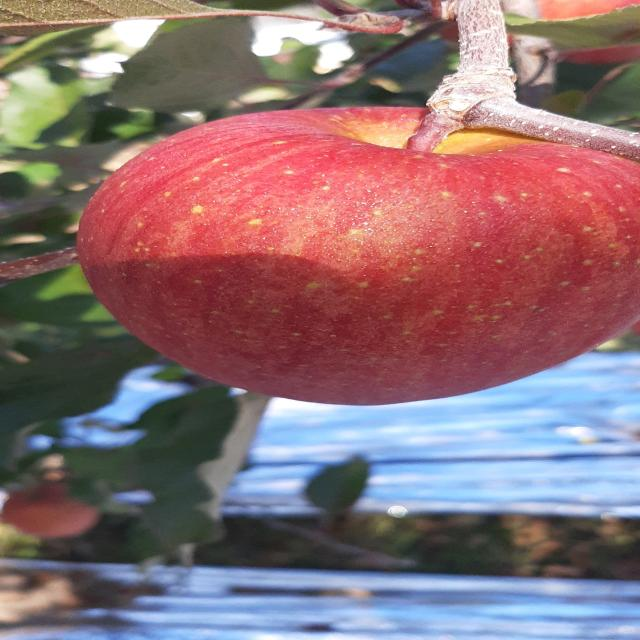fresh: (56, 95, 640, 416)
